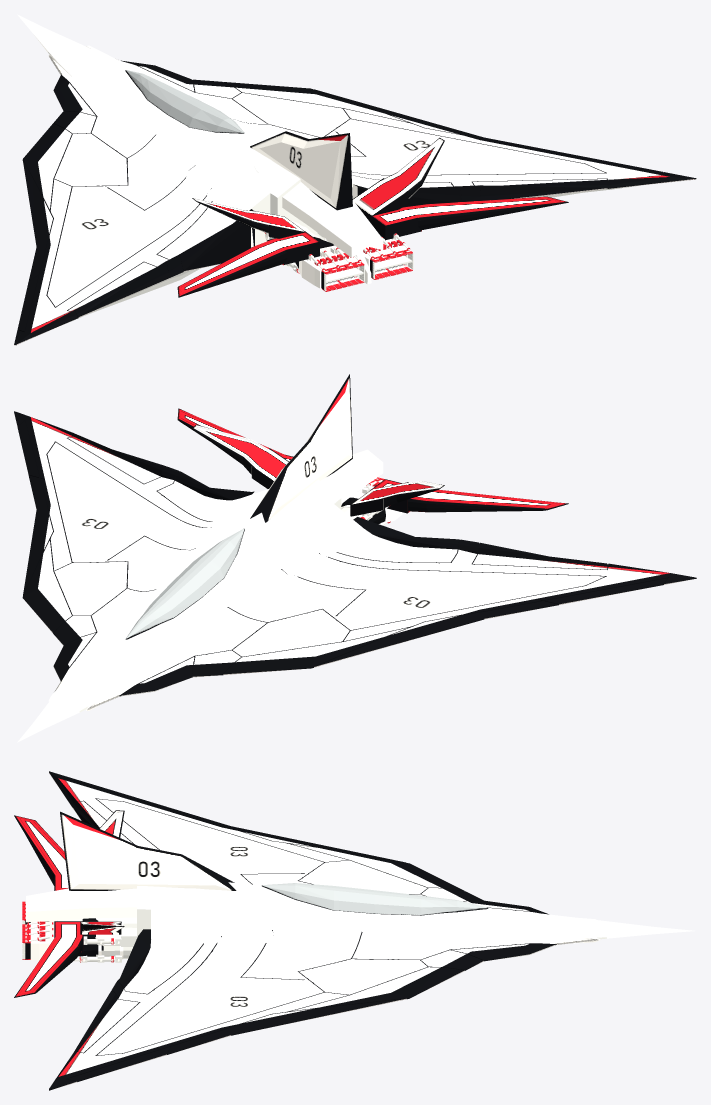
Rendered from B_comic.glb.
3 views of the same model, one above another, from view 1: azimuth 30°, elevation 25°; view 2: azimuth 150°, elevation 25°; view 3: azimuth 270°, elevation 25° (orthographic). The views are drawn at different scales.
Parts seen in each view (by area): view 1: AF_MAIN_WING_L_01, AF_MAIN_WING_R_01, AF_BODY_01, AF_MATCH_TAIL_CENTER, AF_REAR_WING_R3_R_tail_end_horizontal_blade, AF_MATCH_AFT_SADDLE, AF_REAR_WING_R3_R_tail_end_horizontal_blade_L, AF_DOME_CENTER_01, AF_REAR_WING_R3_R_small_upper_canted_blade, AF_REAR_WING_R3_R_small_upper_canted_blade_L, AF_ENGINE_E2_R_low_wide_cowl_L; view 2: AF_MAIN_WING_L_01, AF_MAIN_WING_R_01, AF_BODY_01, AF_MATCH_TAIL_CENTER, AF_DOME_CENTER_01, AF_REAR_WING_R3_R_tail_end_horizontal_blade_L, AF_REAR_WING_R3_R_small_upper_canted_blade, AF_MATCH_AFT_SADDLE, AF_REAR_WING_R3_R_small_upper_canted_blade_L, AF_REAR_WING_R3_R_tail_end_horizontal_blade; view 3: AF_MAIN_WING_R_01, AF_MAIN_WING_L_01, AF_BODY_01, AF_MATCH_TAIL_CENTER, AF_DOME_CENTER_01, AF_MATCH_AFT_SADDLE, AF_REAR_WING_R3_R_tail_end_horizontal_blade, AF_REAR_WING_R3_R_tail_end_horizontal_blade_L, AF_REAR_WING_R3_R_small_upper_canted_blade, AF_ENGINE_E2_R_low_wide_cowl.
Boxes of the visible parts, x1,y1,x2,y2 form: AF_MAIN_WING_L_01: [14, 54, 254, 345]; AF_MAIN_WING_R_01: [86, 45, 696, 206]; AF_BODY_01: [17, 14, 362, 266]; AF_MATCH_TAIL_CENTER: [250, 131, 352, 210]; AF_REAR_WING_R3_R_tail_end_horizontal_blade: [370, 196, 568, 240]; AF_MATCH_AFT_SADDLE: [253, 156, 383, 257]; AF_REAR_WING_R3_R_tail_end_horizontal_blade_L: [177, 231, 319, 297]; AF_DOME_CENTER_01: [125, 70, 244, 133]; AF_REAR_WING_R3_R_small_upper_canted_blade: [352, 137, 444, 221]; AF_REAR_WING_R3_R_small_upper_canted_blade_L: [192, 198, 305, 238]; AF_ENGINE_E2_R_low_wide_cowl_L: [297, 245, 359, 288]; AF_MAIN_WING_L_01: [86, 517, 696, 710]; AF_MAIN_WING_R_01: [14, 411, 254, 701]; AF_BODY_01: [17, 479, 362, 742]; AF_MATCH_TAIL_CENTER: [250, 374, 352, 522]; AF_DOME_CENTER_01: [125, 528, 244, 639]; AF_REAR_WING_R3_R_tail_end_horizontal_blade_L: [370, 479, 568, 513]; AF_REAR_WING_R3_R_small_upper_canted_blade: [192, 424, 288, 488]; AF_MATCH_AFT_SADDLE: [253, 449, 383, 518]; AF_REAR_WING_R3_R_small_upper_canted_blade_L: [350, 481, 444, 516]; AF_REAR_WING_R3_R_tail_end_horizontal_blade: [177, 408, 293, 461]; AF_MAIN_WING_R_01: [49, 929, 600, 1090]; AF_MAIN_WING_L_01: [49, 771, 596, 919]; AF_BODY_01: [137, 882, 694, 943]; AF_MATCH_TAIL_CENTER: [60, 811, 236, 890]; AF_DOME_CENTER_01: [261, 883, 488, 915]; AF_MATCH_AFT_SADDLE: [26, 888, 206, 922]; AF_REAR_WING_R3_R_tail_end_horizontal_blade: [14, 921, 83, 997]; AF_REAR_WING_R3_R_tail_end_horizontal_blade_L: [14, 815, 68, 890]; AF_REAR_WING_R3_R_small_upper_canted_blade: [80, 921, 124, 934]; AF_ENGINE_E2_R_low_wide_cowl: [30, 923, 80, 960].
Bounding box in the file's own units: 14.65 × 3.44 × 13.26.
22 materials, 9 textured.
